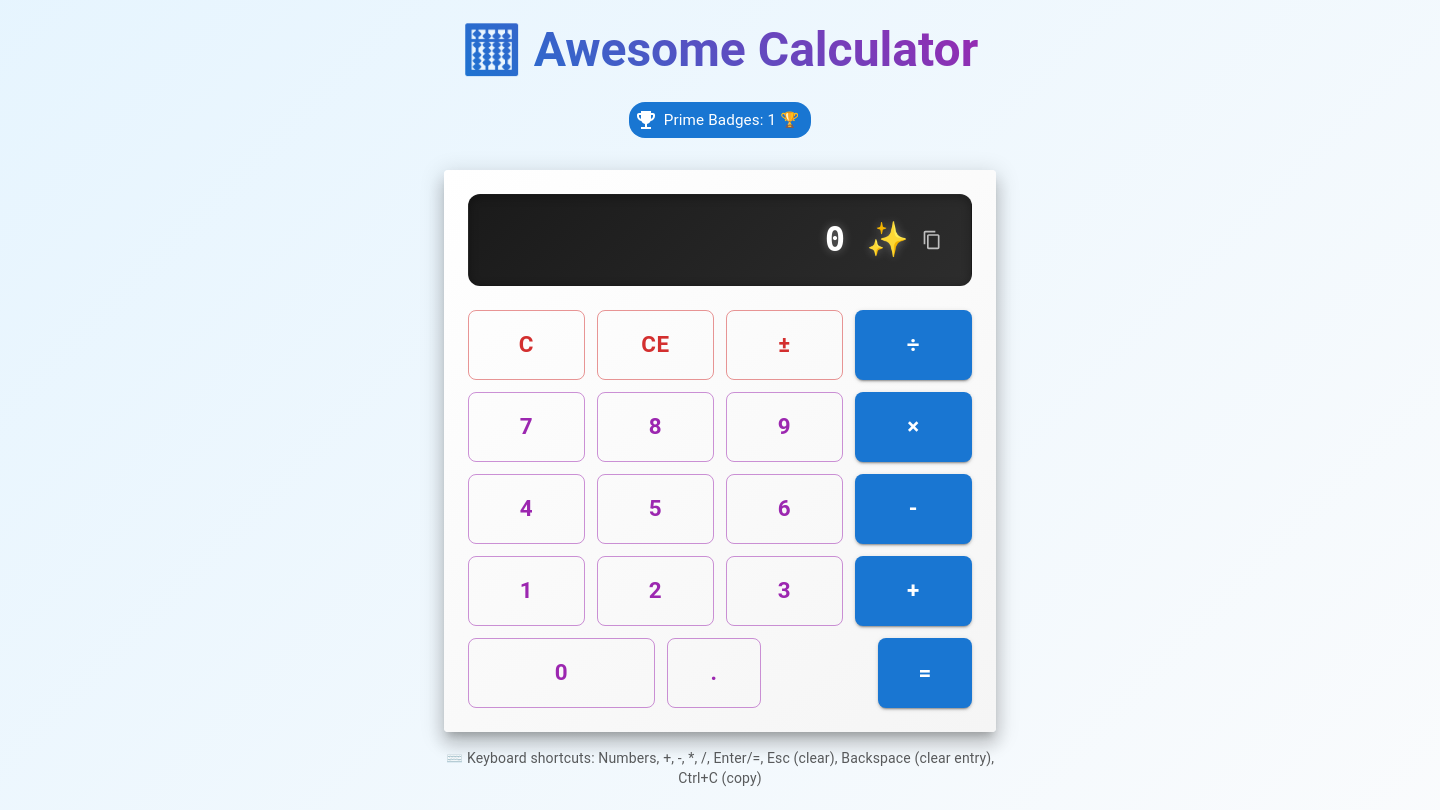
Calculator › Arithmetic Operations › performs division correctly
Click the button "8": [656, 427] box [597,392,714,462]
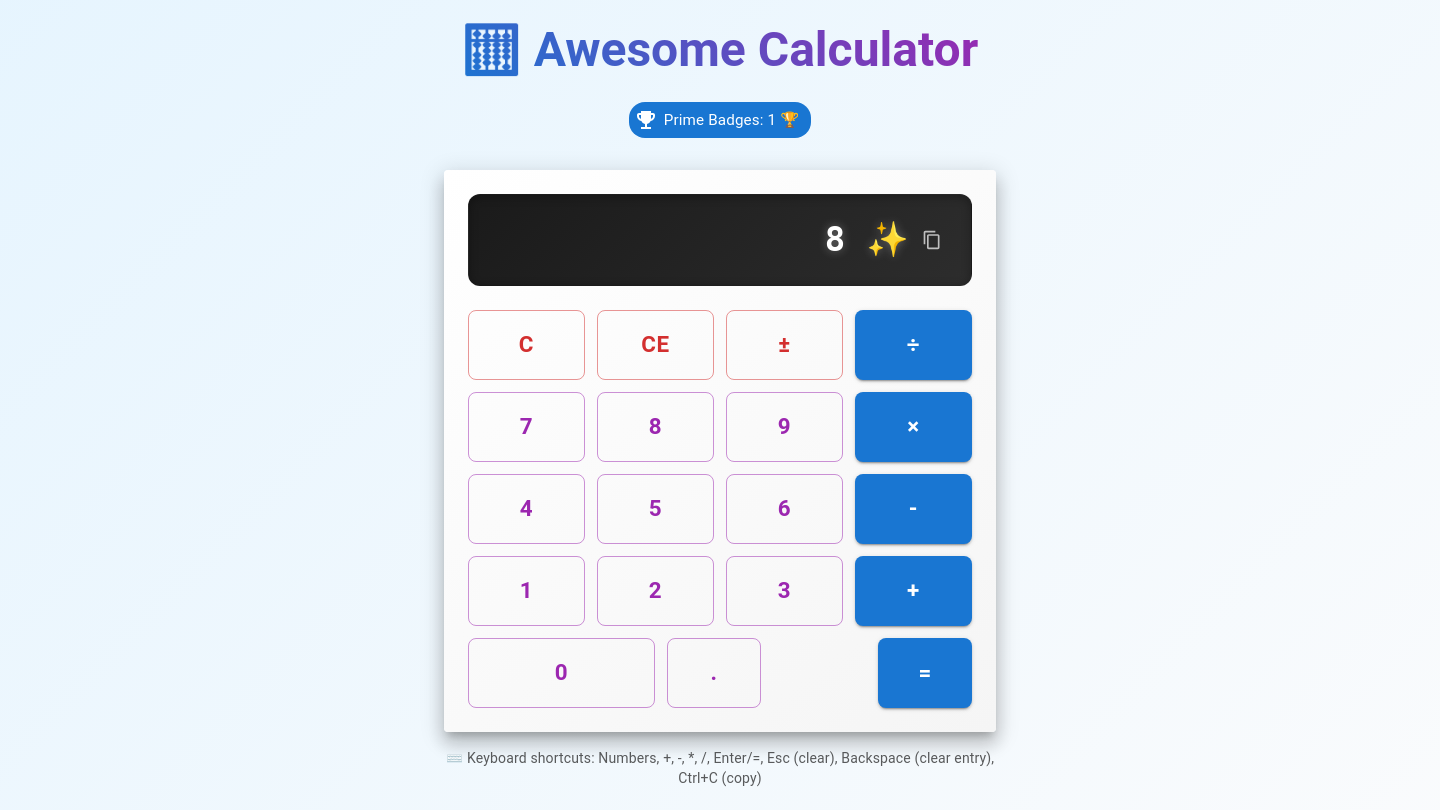
Click the button "÷": [914, 345] box [855,310,972,380]
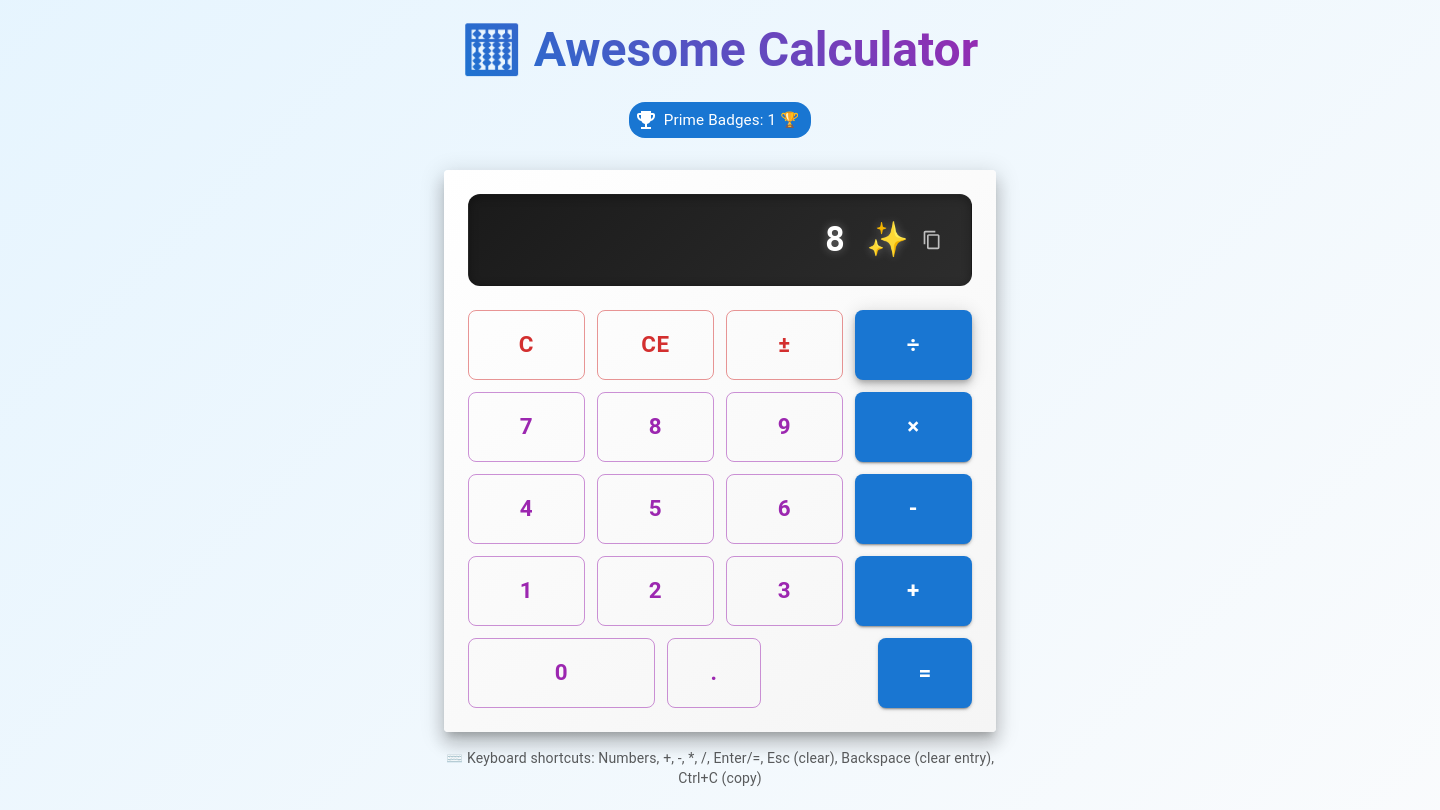
Click the button "2": [656, 591] box [597,556,714,626]
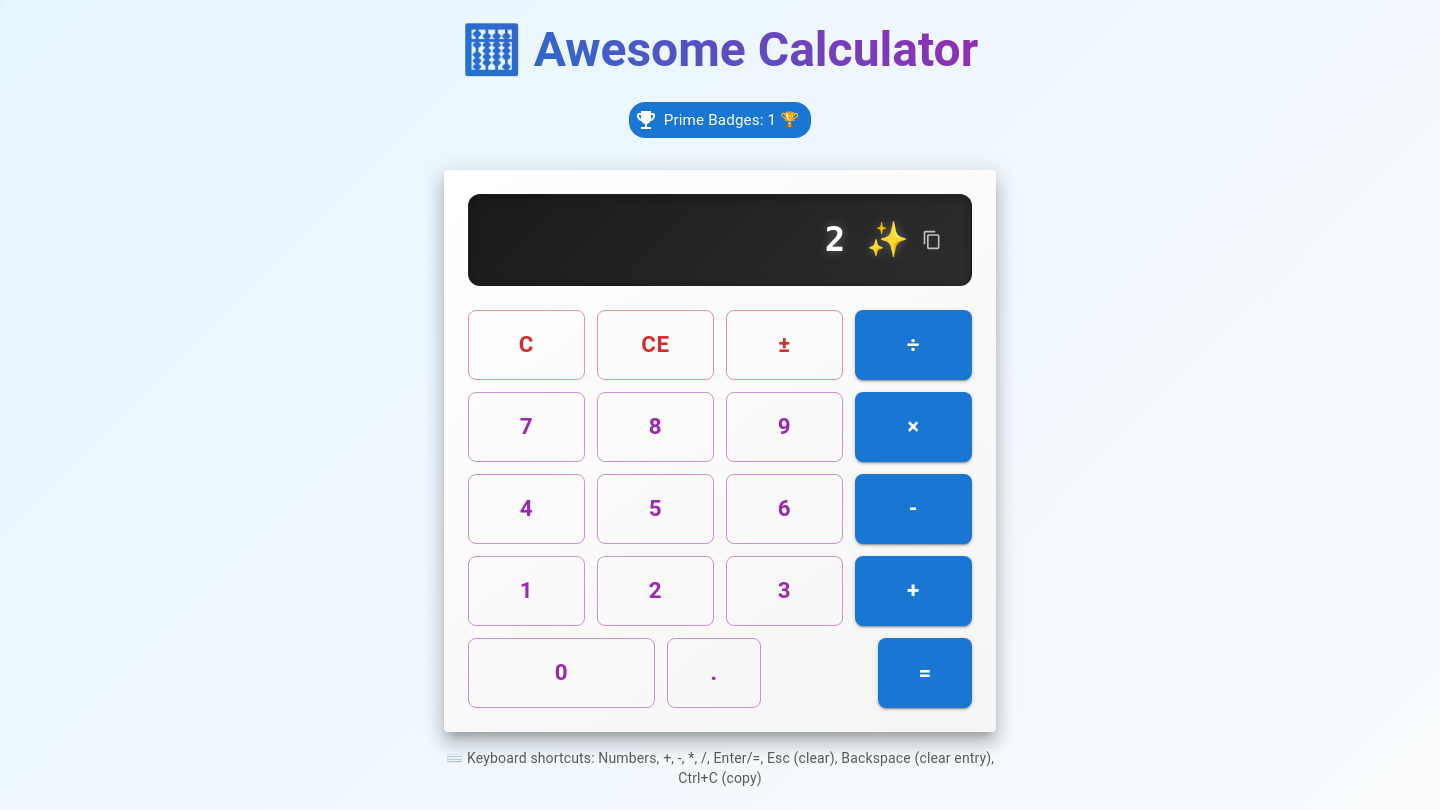
Click the button "=": [925, 673] box [878,638,972,708]
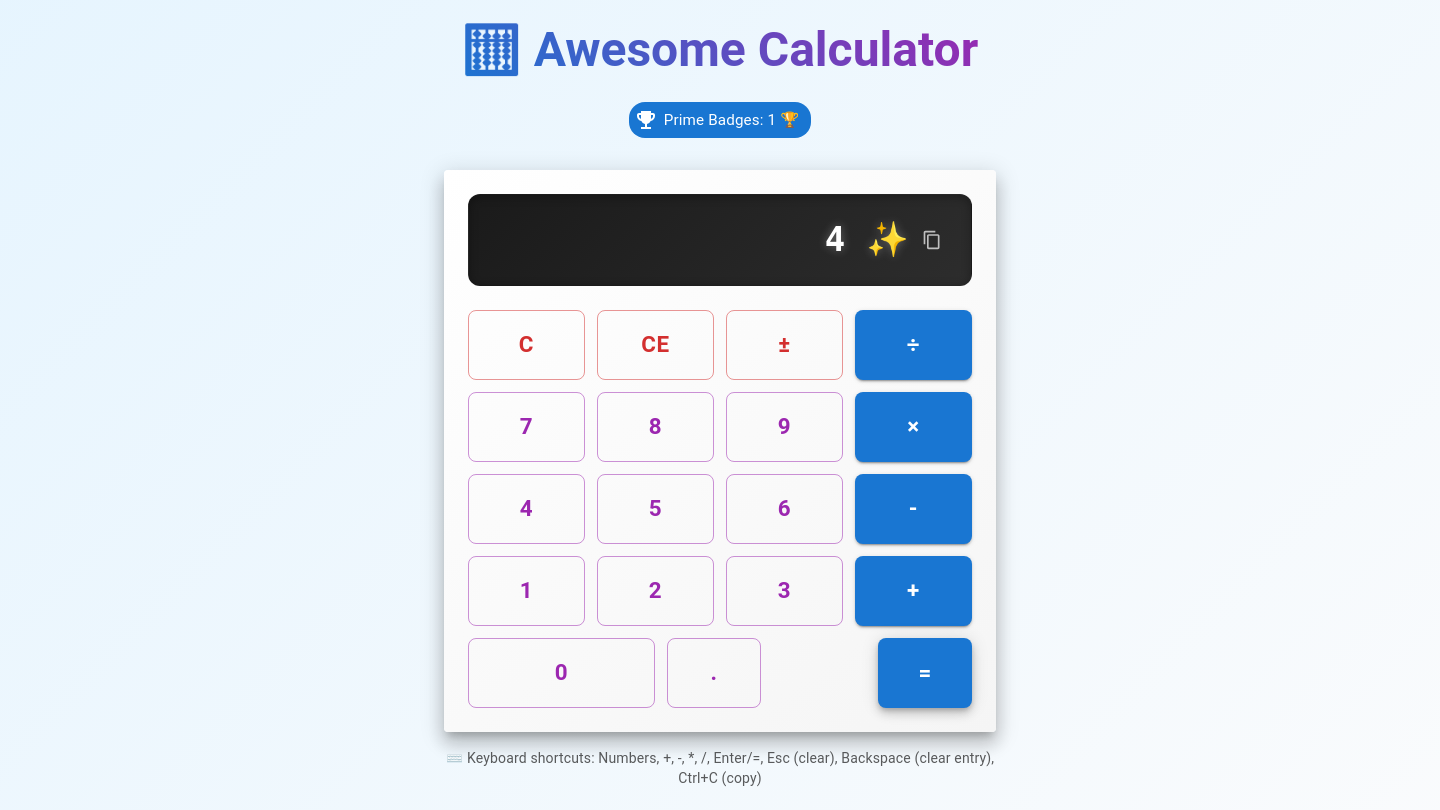
Expected: the text "4 ✨" is shown, [825,219,909,261]
